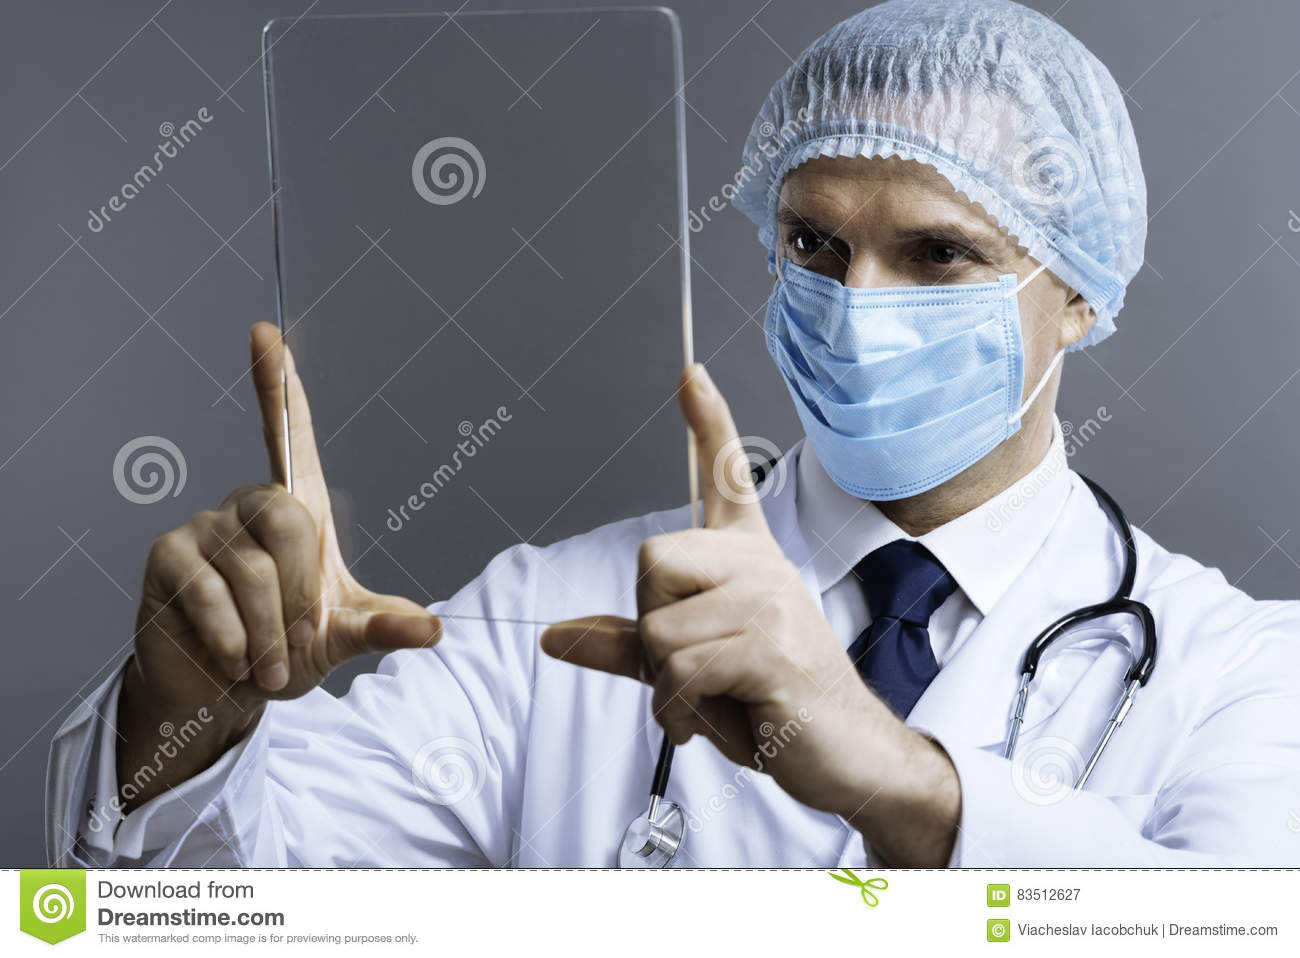mask: (772, 283, 1039, 526)
